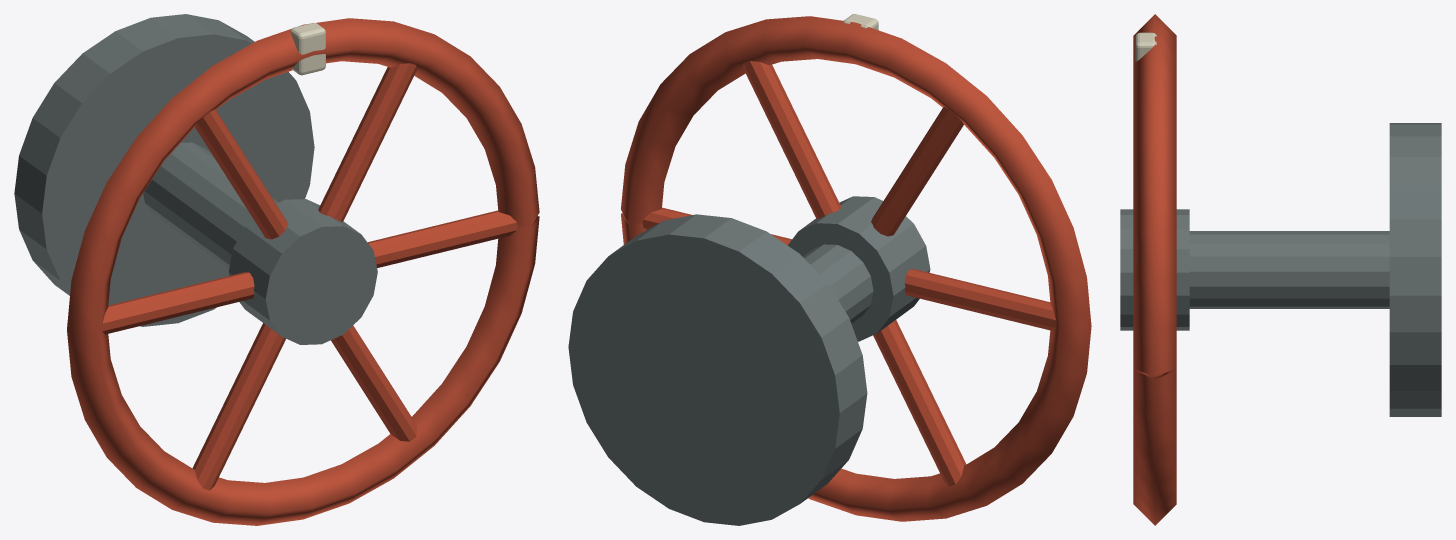
File: valve.glb
3 renders of one model, left to right at view 1: azimuth 30°, elevation 25°; view 2: azimuth 150°, elevation 25°; view 3: azimuth 270°, elevation 25°, orthographic. The views are drawn at different scales.
Visible parts, largest first — view 1: valve; view 2: valve; view 3: valve.
Part boxes in pixels (x1,y1,x2,y2): valve: (14,14,539,525); valve: (568,14,1091,525); valve: (1120,14,1441,525).
Size of the model in its own units: 0.5899 by 0.59 by 0.37.
